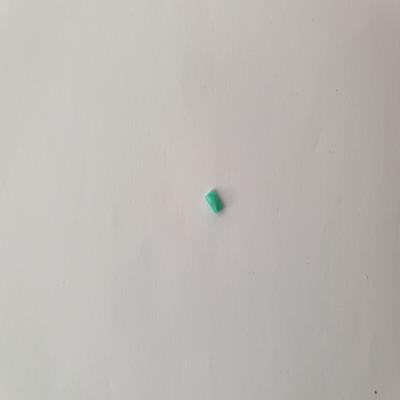plastic: (204, 185, 228, 215)
